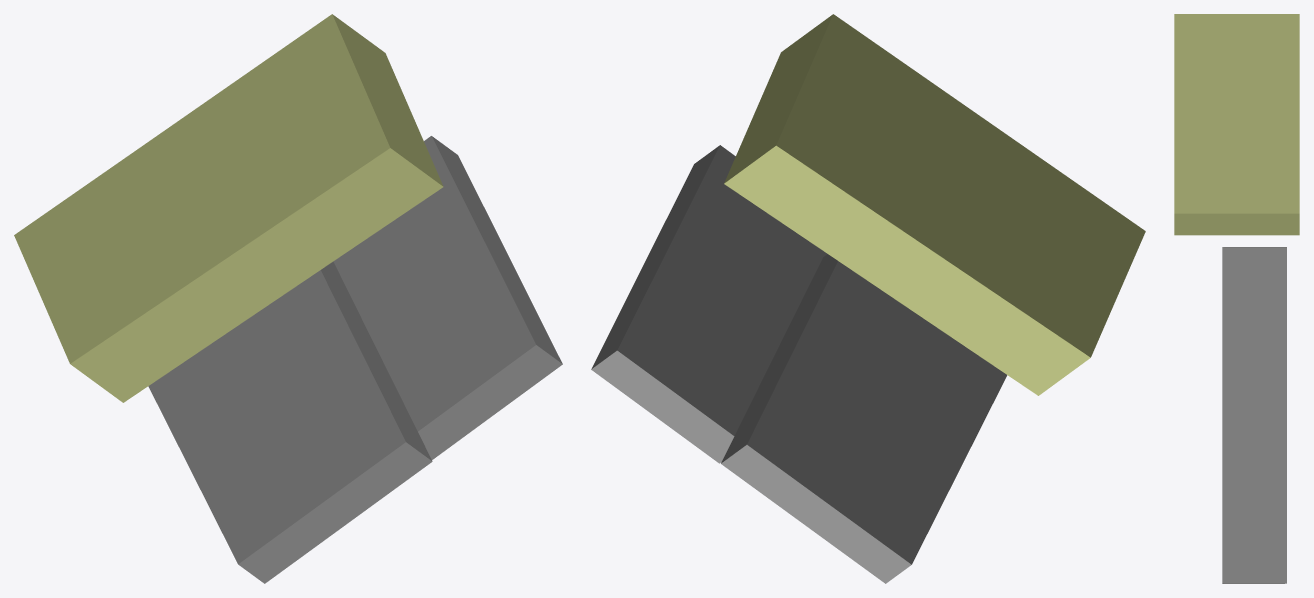
3 renders of one model, left to right at view 1: azimuth 30°, elevation 25°; view 2: azimuth 150°, elevation 25°; view 3: azimuth 270°, elevation 25°, orthographic. The views are drawn at different scales.
Parts seen in each view (by area): view 1: 0_1_0_2_0_2_1_2_3; view 2: 0_1_0_2_0_2_1_2_3; view 3: 0_1_0_2_0_2_1_2_3.
Part boxes in pixels (<box>): 0_1_0_2_0_2_1_2_3: <box>14,14,562,583</box>; 0_1_0_2_0_2_1_2_3: <box>591,14,1145,583</box>; 0_1_0_2_0_2_1_2_3: <box>1174,14,1299,583</box>.
Size of the model in its own units: 33.6 by 32.39 by 6.
